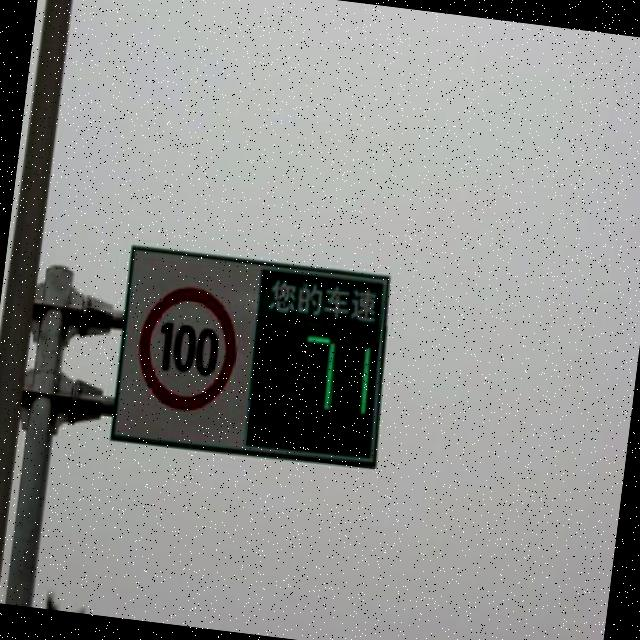Ograniczenie predkosci do 100: (132, 284, 245, 416)
